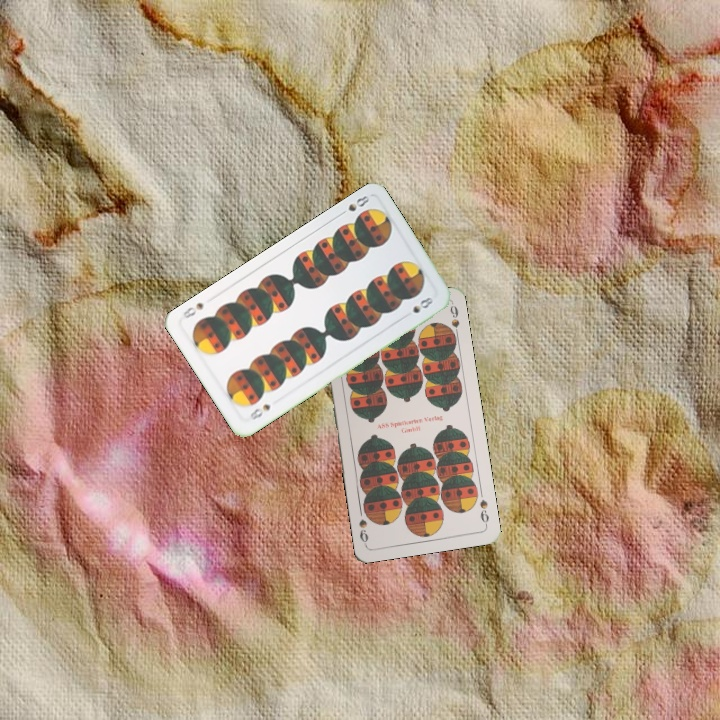S8: (335, 191, 372, 219), (245, 400, 273, 423)
S9: (475, 496, 491, 528)
